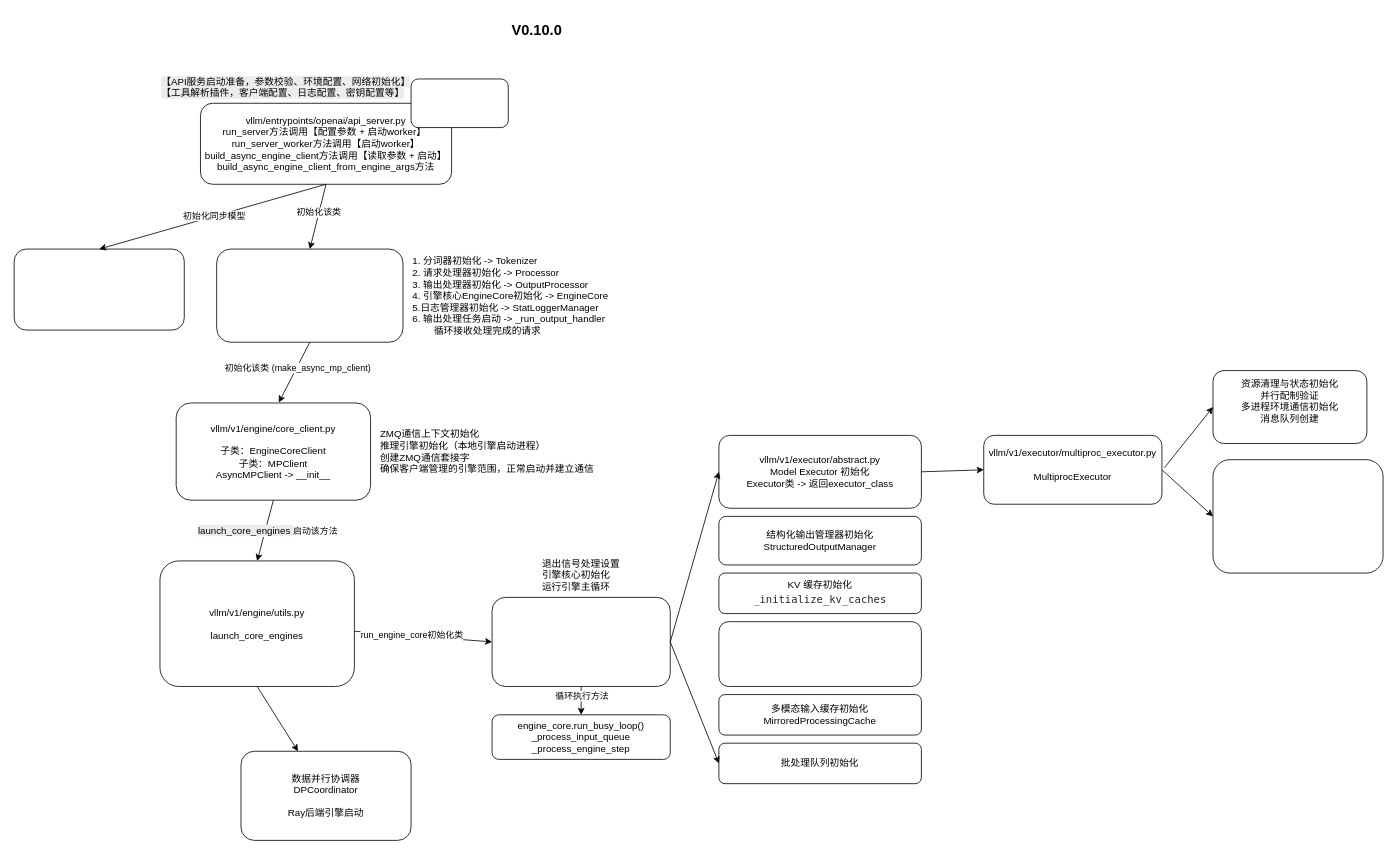
This 1397x855 diagram has some shape labels left out. The centre of each missing label's shape, as x and y in pixels:
Scheduler 初始化: (819,653)
vllm/v1/engine/async_llm.py 子类: EngineClient AsyncLLM -> __init__: (309,295)
vllm/v1/engine/core.py 子类: EngineCore EngineCoreProc 父类：DPEngineCoreProc: (580,641)
vllm/v1/engine/llm_engine.py: (98,289)
全局入口: (459,103)
工作进程创建与初始化 WorkerProc WorkerWrapperBase Worker ModelRunner execute_model: (1297,516)
